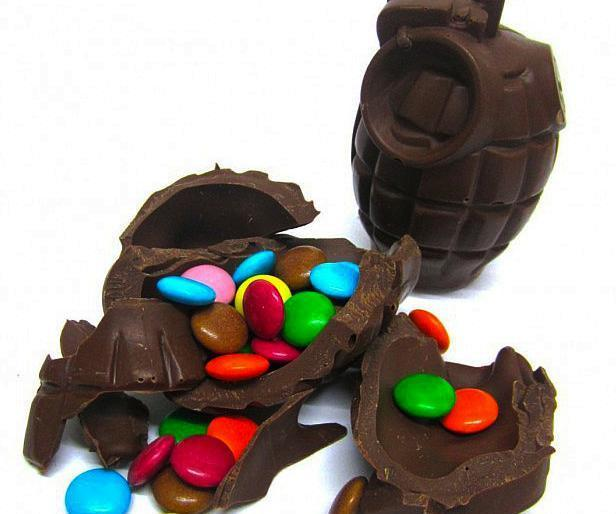Grenade: (350, 0, 567, 295)
